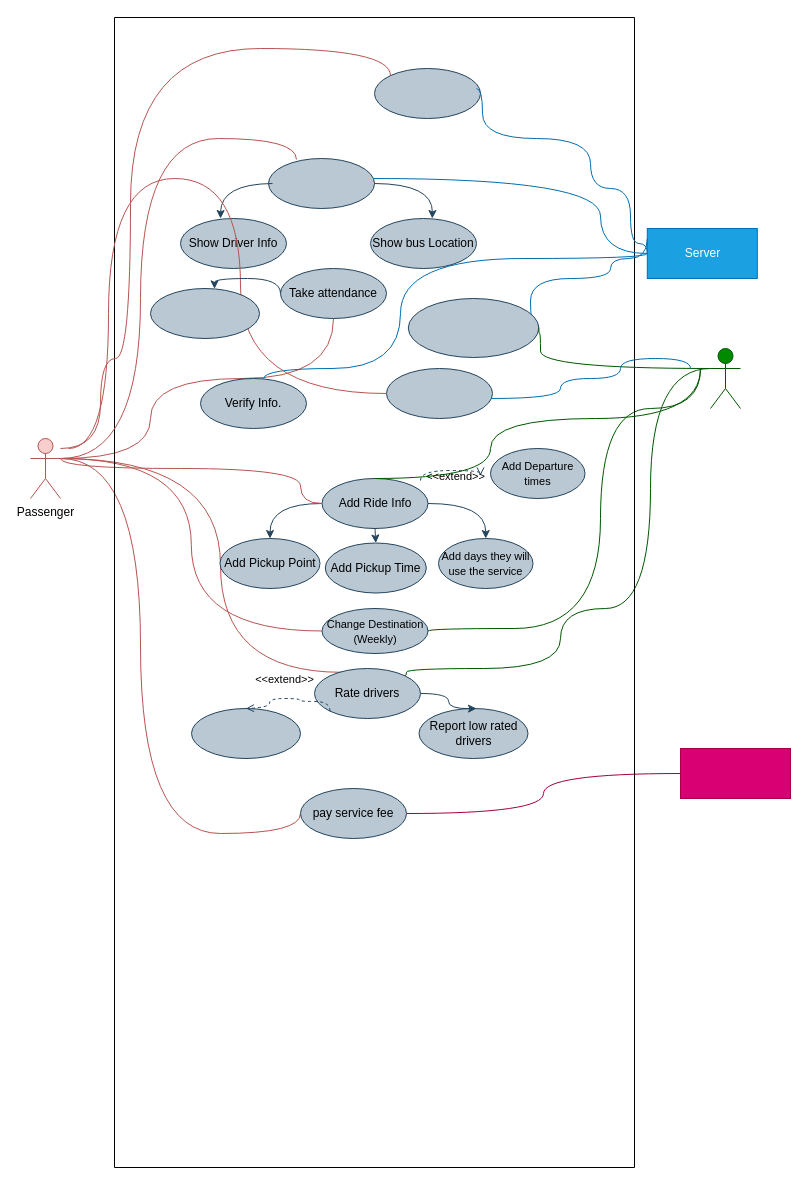
Some shapes in this 808 by 1185 pixel diagram are drawn without their labels. The shapes that lost their labels are listed below. From the top down, each one's centre as x and y in pixels, then its label:
pixel 427 93: Calculate estimated arrival time
pixel 321 183: Show Trip Info
pixel 205 313: Report unregistered students
pixel 473 328: show daily attendance report
pixel 439 393: Notify user with trip updates
pixel 725 378: Staff
pixel 245 733: Report a Problem
pixel 735 773: Stripe API
